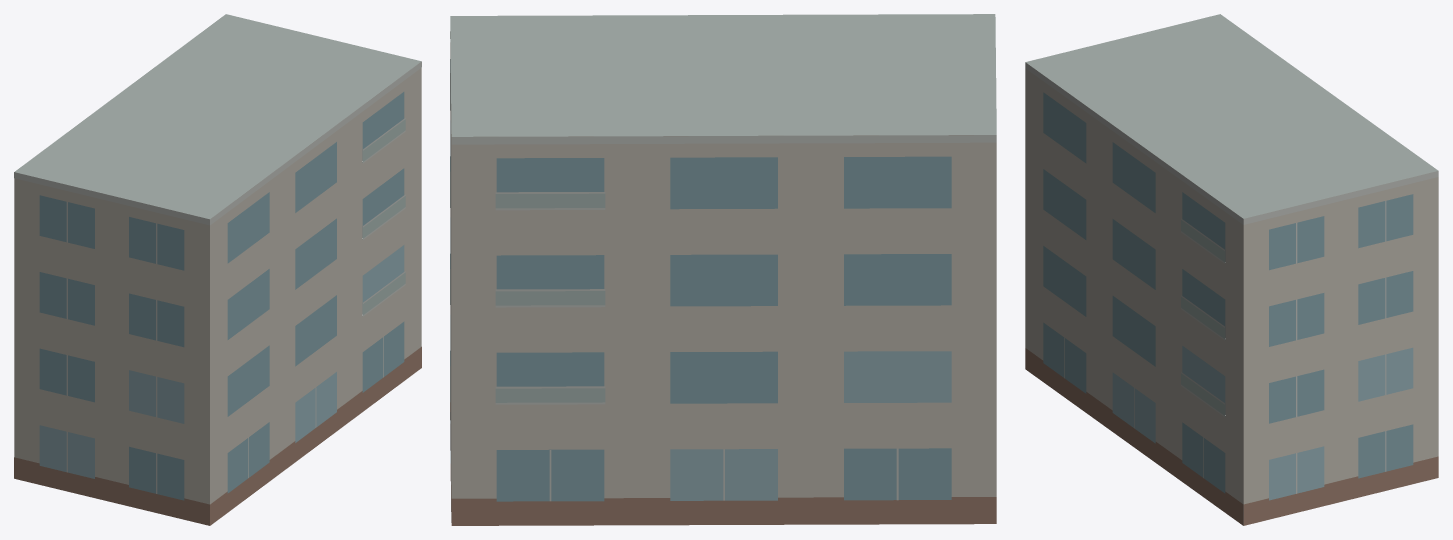
File: survey-upis-33026277.glb
The picture shows the model from 3 angles, left to right: view 1: azimuth 30°, elevation 25°; view 2: azimuth 150°, elevation 25°; view 3: azimuth 270°, elevation 25°; orthographic projection. The views are drawn at different scales.
Parts seen in each view (by area): view 1: survey-upis-33026277.tmp; view 2: survey-upis-33026277.tmp; view 3: survey-upis-33026277.tmp.
Boxes of the visible parts, x1,y1,x2,y2 form: survey-upis-33026277.tmp: (14,14,421,525); survey-upis-33026277.tmp: (450,14,996,525); survey-upis-33026277.tmp: (1025,14,1438,525).
Bounding box in the file's own units: 17.47 × 12.2 × 14.89.
